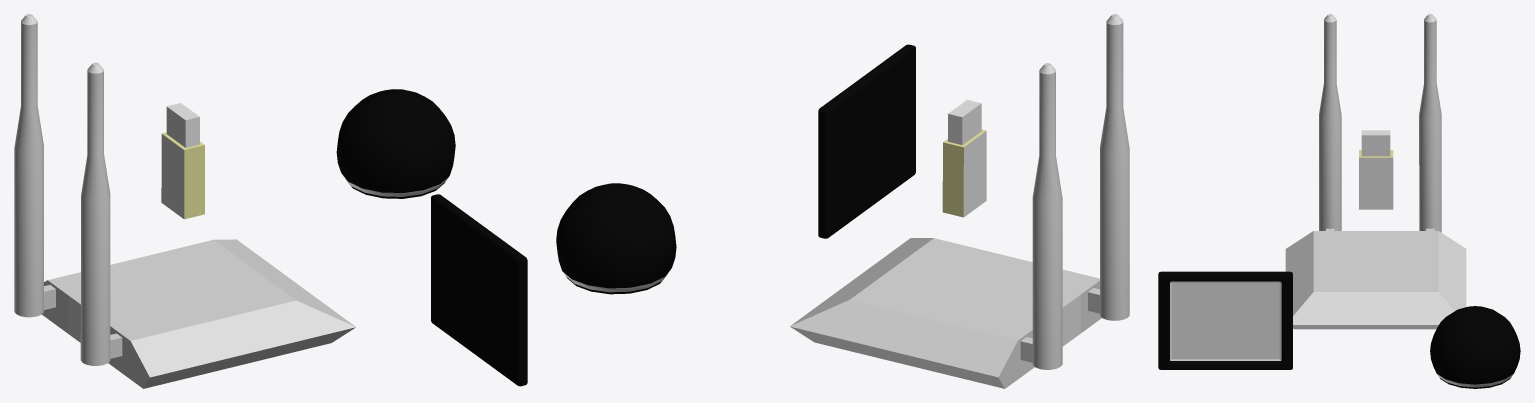
The model's file is Wifi.fbx.
3 views of the same model, side by side, from view 1: azimuth 30°, elevation 25°; view 2: azimuth 150°, elevation 25°; view 3: azimuth 270°, elevation 25° (orthographic). The views are drawn at different scales.
Parts seen in each view (by area): view 1: Router, TABLET, Echo, Cylinder_001, Cylinder, USB; view 2: Router, TABLET, Echo, Cylinder, Cylinder_001, USB; view 3: Router, TABLET, Echo, Cylinder, Cylinder_001, USB.
Part boxes in pixels (x1,y1,x2,y2): Router: (42, 239, 355, 388); TABLET: (431, 194, 527, 386); Echo: (336, 89, 455, 198); Cylinder_001: (80, 62, 122, 365); Cylinder: (14, 14, 55, 317); USB: (161, 103, 204, 219); Router: (790, 238, 1101, 388); TABLET: (818, 44, 915, 238); Echo: (556, 183, 676, 294); Cylinder: (1020, 63, 1062, 369); Cylinder_001: (1088, 14, 1129, 320); USB: (942, 99, 986, 217); Router: (1285, 231, 1466, 329); TABLET: (1158, 271, 1292, 369); Echo: (1430, 306, 1520, 388); Cylinder: (1419, 14, 1441, 232); Cylinder_001: (1319, 14, 1341, 230); USB: (1359, 130, 1393, 209).
Size of the model in its own units: 154 by 101 by 139.
